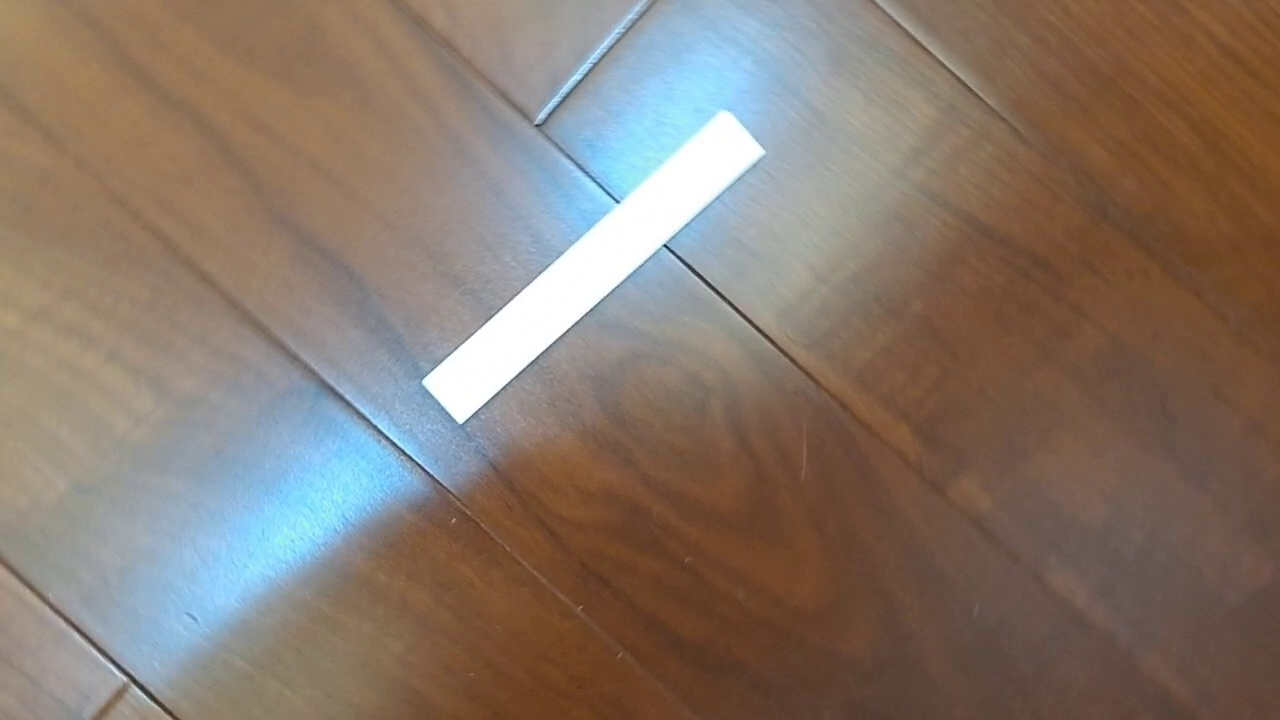ruler: (419, 108, 768, 427)
